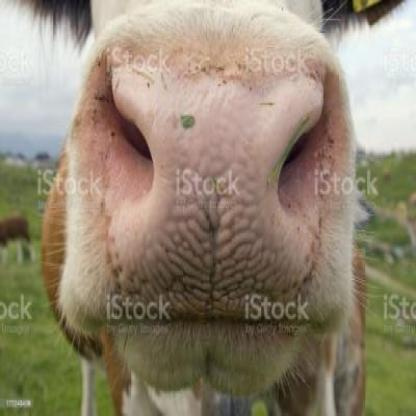lower: (192, 342, 236, 365)
mouth: (75, 30, 347, 395)
upper: (203, 156, 218, 179)
